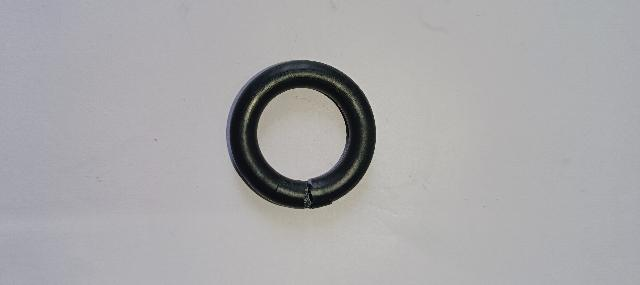crack: (298, 177, 322, 213)
scratch: (268, 173, 284, 206)
